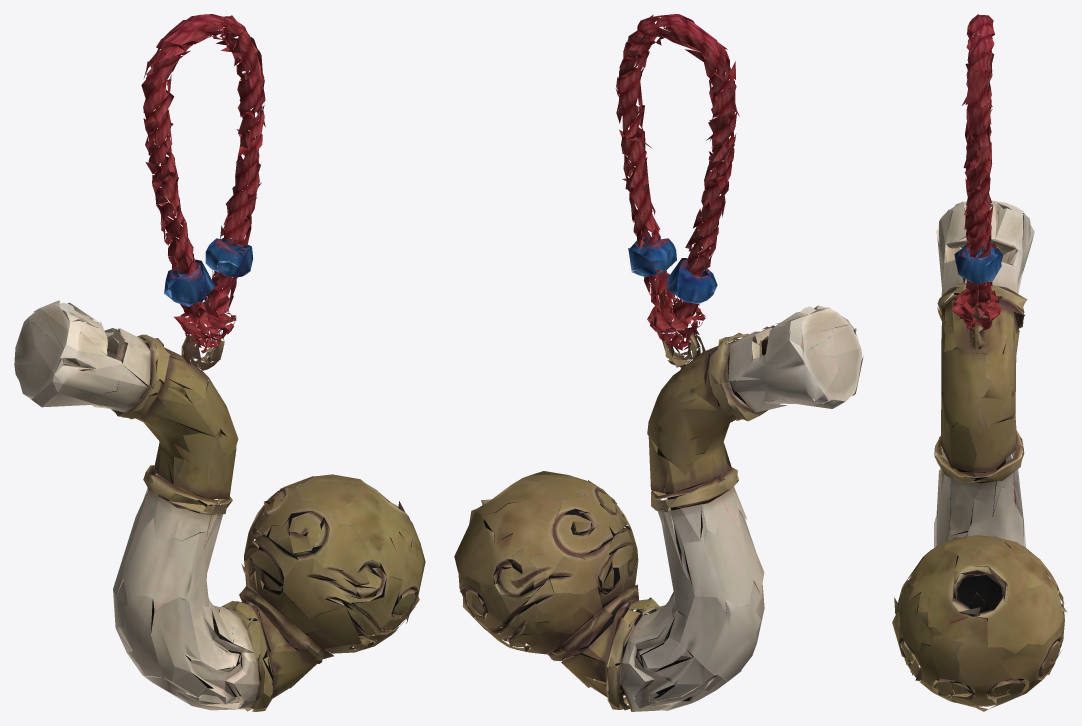
The model's file is whistle.glb.
The picture shows the model from 3 angles, left to right: view 1: azimuth 30°, elevation 25°; view 2: azimuth 150°, elevation 25°; view 3: azimuth 270°, elevation 25°; orthographic projection. The views are drawn at different scales.
Parts seen in each view (by area): view 1: Mesh_0; view 2: Mesh_0; view 3: Mesh_0.
Part boxes in pixels (left/top/right/bottom): Mesh_0: left=14, top=14, right=425, bottom=711; Mesh_0: left=454, top=14, right=863, bottom=711; Mesh_0: left=892, top=14, right=1067, bottom=711.
Bounding box in the file's own units: 0.5101 × 0.9 × 0.2173.
1 material, 1 textured.
